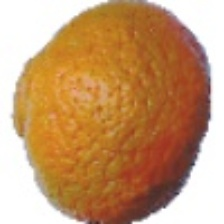tangerine: (13, 25, 191, 224)
